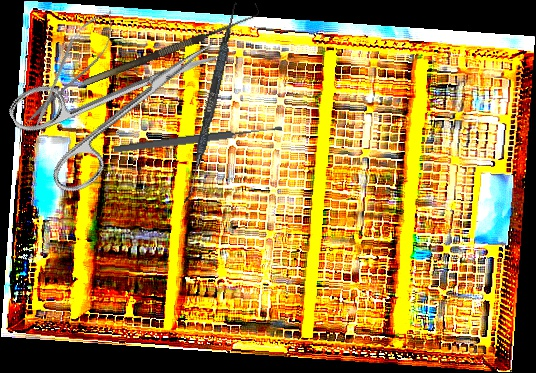Hook Surgical: (79, 2, 262, 87)
Iris Scissors: (3, 4, 244, 203)
Micro Scissor: (15, 0, 127, 138)
Spatula Surgical: (184, 0, 239, 206)
Surgical Spoon: (113, 123, 283, 155)
